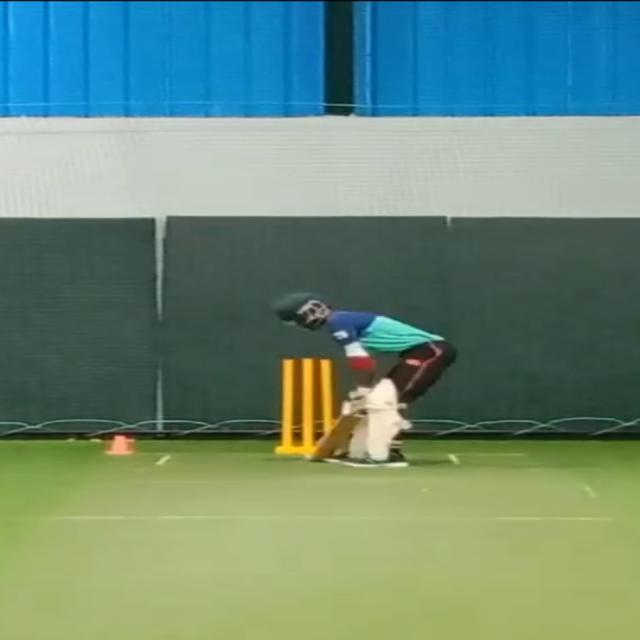stump: (269, 354, 339, 454)
